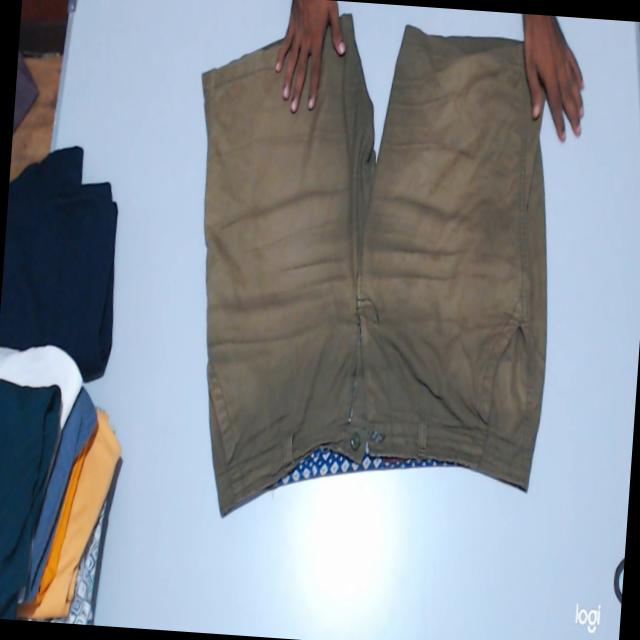new-garment: (201, 16, 545, 515)
